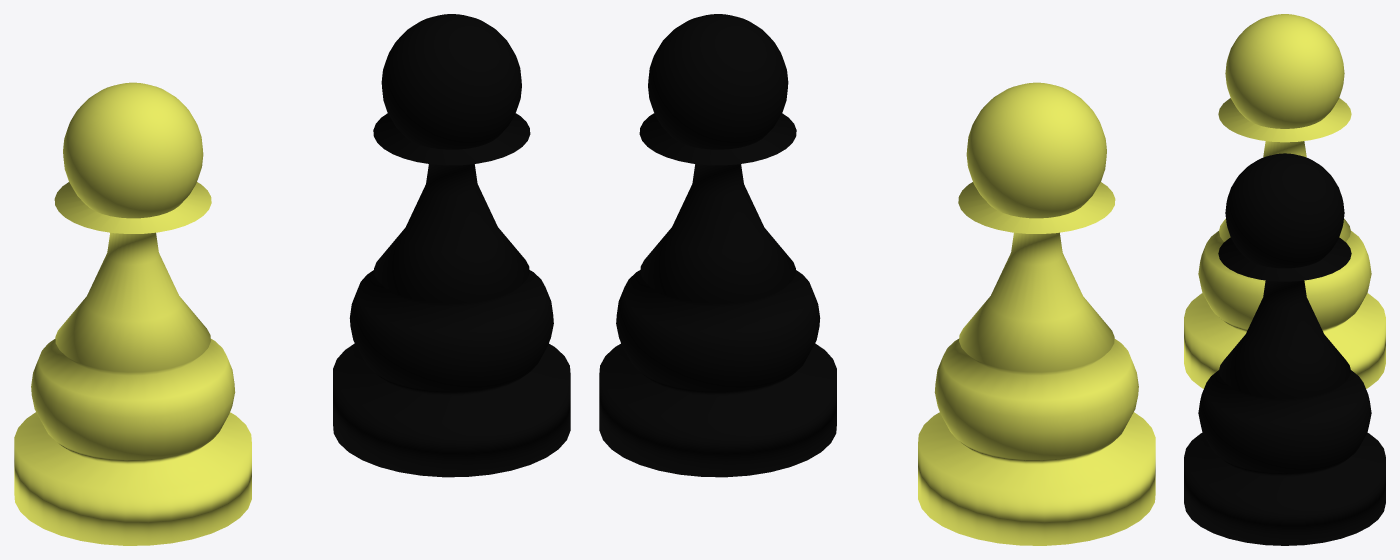
File: pawns.gltf
The picture shows the model from 3 angles, left to right: view 1: azimuth 30°, elevation 25°; view 2: azimuth 150°, elevation 25°; view 3: azimuth 270°, elevation 25°; orthographic projection. The views are drawn at different scales.
Parts seen in each view (by area): view 1: Cylinder, Cylinder.001; view 2: Cylinder, Cylinder.001; view 3: Cylinder.001, Cylinder.
Part boxes in pixels (box(x1,y1,x2,y2)): Cylinder: box(14, 82, 251, 545); Cylinder.001: box(333, 14, 570, 477); Cylinder: box(918, 82, 1155, 545); Cylinder.001: box(599, 14, 836, 477); Cylinder.001: box(1184, 153, 1385, 545); Cylinder: box(1184, 14, 1385, 388).
Size of what is drawn, in the model's own units: 18.22 by 13.79 by 7.16.
